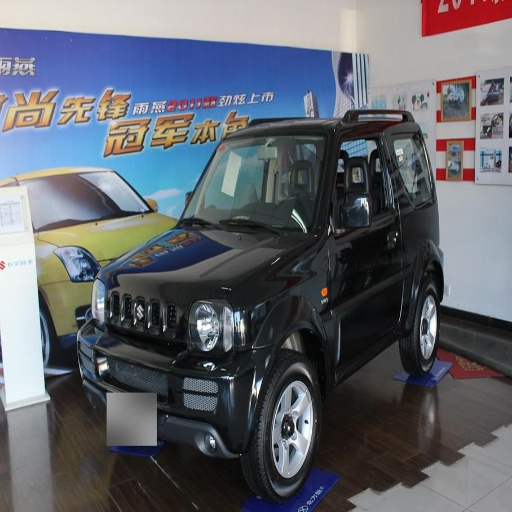front_bumper: (79, 263, 269, 457)
front_glass: (181, 130, 334, 233)
front_left_door: (336, 147, 387, 372)
